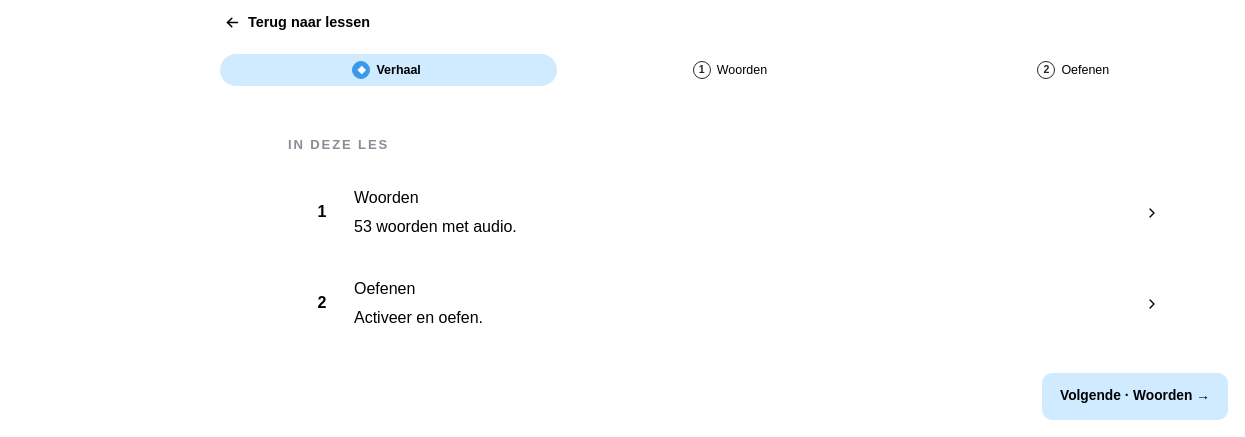
Scenario: ChapterExperience › opening-chapter overview lists remaining chapters and navigates on click
Expected: the heading "In deze les" is shown, [288,137,389,152]
Expected: the text "53 woorden met audio." is shown, [354,218,517,235]
Click the link "1 Woorden 53 woorden met audio.": [386, 198] box [318,189,1160,235]
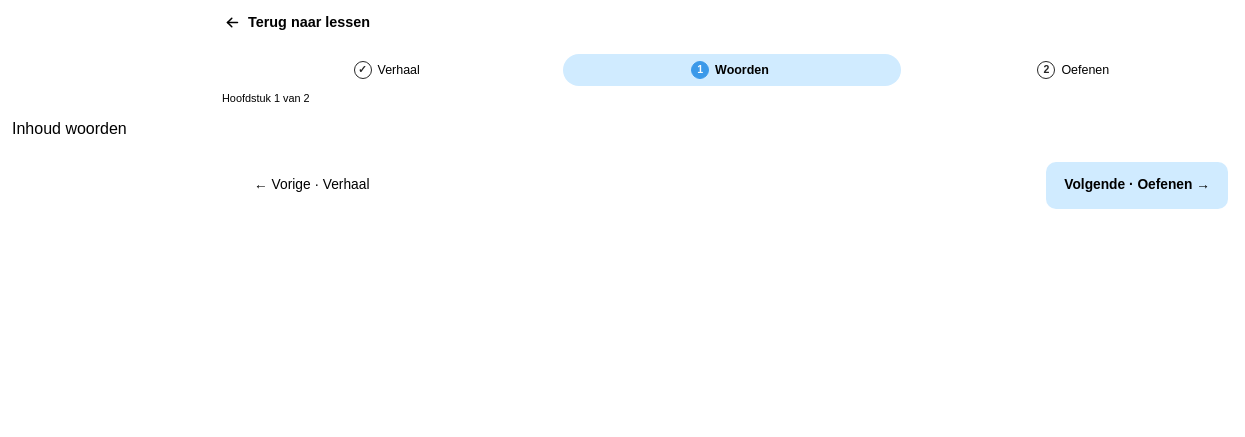
Result: the text "Inhoud woorden" is shown at [12,120,127,137]
